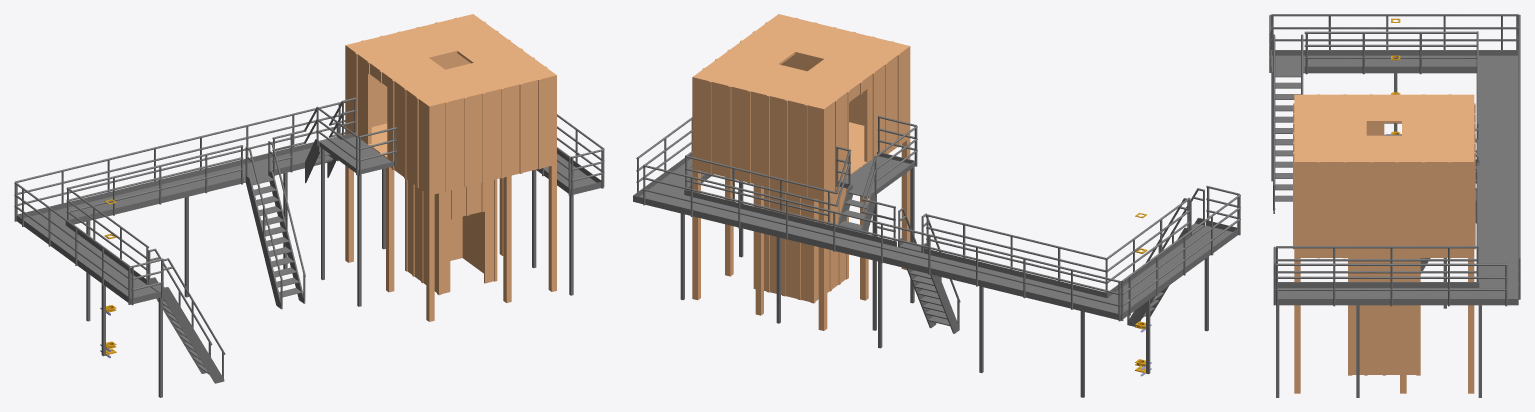
File: XrayFacility.dae
3 views of the same model, side by side, from view 1: azimuth 30°, elevation 25°; view 2: azimuth 150°, elevation 25°; view 3: azimuth 270°, elevation 25° (orthographic). The views are drawn at different scales.
Visible parts, largest first — view 1: X-Ray_x0020_Vault-1_x0020__x0028_Default_x0029_, Platform-1_x0020__x0028_Default_x0029_, Ladder-2_x0020__x0028_Default_x0029_, Ladder-1_x0020__x0028_Default_x0029_; view 2: X-Ray_x0020_Vault-1_x0020__x0028_Default_x0029_, Platform-1_x0020__x0028_Default_x0029_, Ladder-2_x0020__x0028_Default_x0029_, Ladder-1_x0020__x0028_Default_x0029_; view 3: X-Ray_x0020_Vault-1_x0020__x0028_Default_x0029_, Platform-1_x0020__x0028_Default_x0029_, Ladder-1_x0020__x0028_Default_x0029_.
Part boxes in pixels (left/top/right/bottom): X-Ray_x0020_Vault-1_x0020__x0028_Default_x0029_: left=345, top=14, right=556, bottom=321; Platform-1_x0020__x0028_Default_x0029_: left=14, top=97, right=604, bottom=397; Ladder-2_x0020__x0028_Default_x0029_: left=245, top=141, right=305, bottom=309; Ladder-1_x0020__x0028_Default_x0029_: left=148, top=248, right=225, bottom=383; X-Ray_x0020_Vault-1_x0020__x0028_Default_x0029_: left=692, top=14, right=910, bottom=330; Platform-1_x0020__x0028_Default_x0029_: left=633, top=115, right=1240, bottom=397; Ladder-2_x0020__x0028_Default_x0029_: left=898, top=207, right=960, bottom=333; Ladder-1_x0020__x0028_Default_x0029_: left=1127, top=188, right=1205, bottom=326; X-Ray_x0020_Vault-1_x0020__x0028_Default_x0029_: left=1293, top=94, right=1475, bottom=393; Platform-1_x0020__x0028_Default_x0029_: left=1269, top=14, right=1520, bottom=397; Ladder-1_x0020__x0028_Default_x0029_: left=1273, top=34, right=1303, bottom=213.
Bounding box in the file's own units: 13665 × 5893 × 5791.
